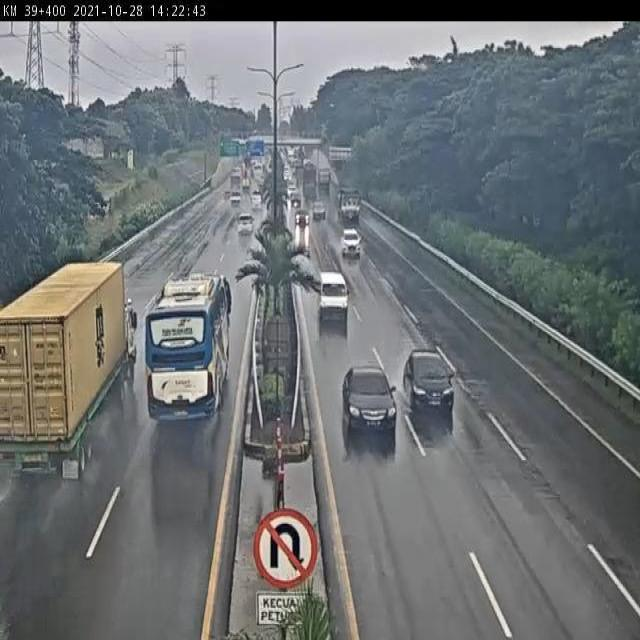bus-l-: (147, 272, 233, 420)
truck-xl-: (0, 263, 140, 477)
